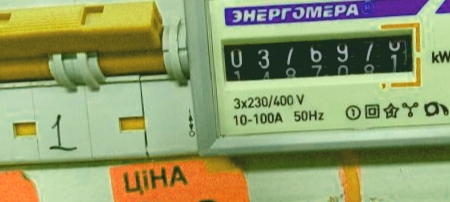0: (228, 45, 243, 68)
1: (387, 51, 400, 72)
3: (255, 46, 272, 69)
6: (307, 38, 323, 62)
7: (280, 41, 296, 65), (361, 38, 376, 62)
9: (333, 39, 349, 63)
screen: (211, 16, 426, 103)
